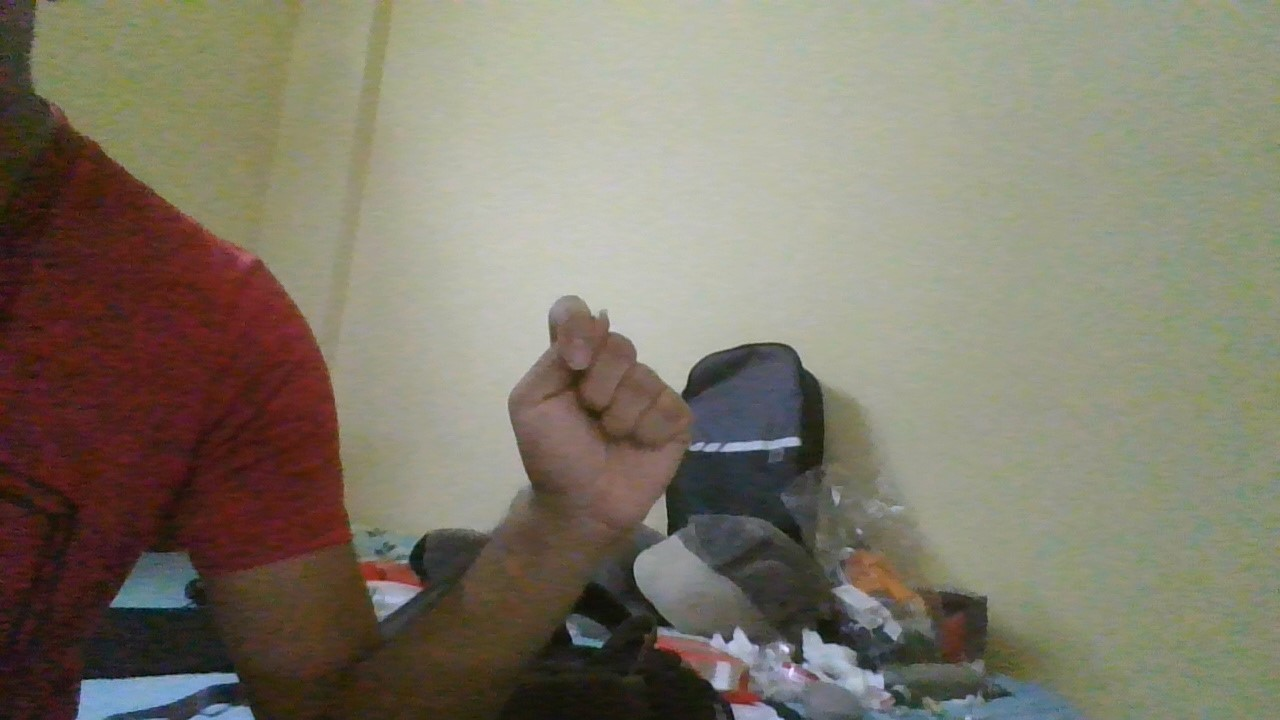t: (504, 291, 699, 545)
